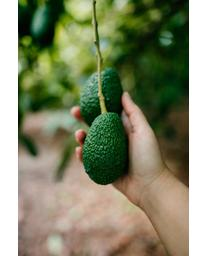avocado: (81, 112, 130, 186), (80, 66, 125, 127)
